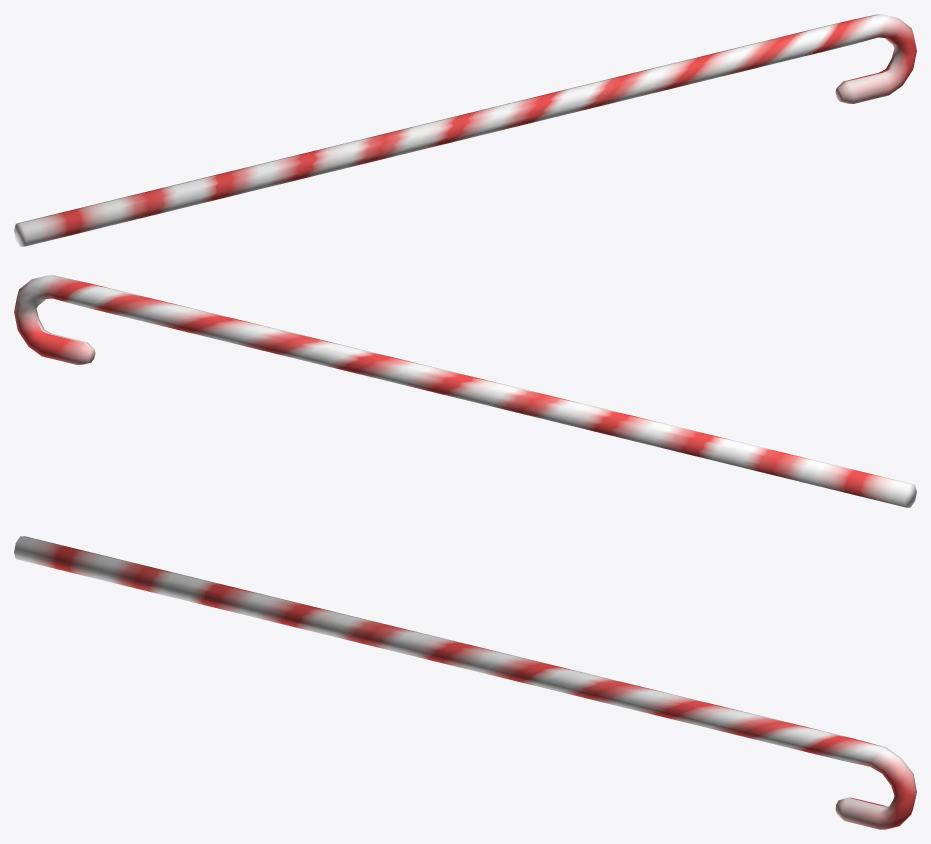
File: sucreDorge.glb
3 renders of one model, top to bottom at view 1: azimuth 30°, elevation 25°; view 2: azimuth 150°, elevation 25°; view 3: azimuth 330°, elevation 25°, orthographic.
Visible parts, largest first — view 1: Cylinder.002; view 2: Cylinder.002; view 3: Cylinder.002.
Boxes of the visible parts, x1=… form: Cylinder.002: x1=14, y1=14, x2=916, y2=246; Cylinder.002: x1=14, y1=275, x2=916, y2=507; Cylinder.002: x1=14, y1=536, x2=916, y2=829.
Bounding box in the file's own units: 12.47 × 1.1 × 0.3097.
Materials: 1 (1 with a texture image).
